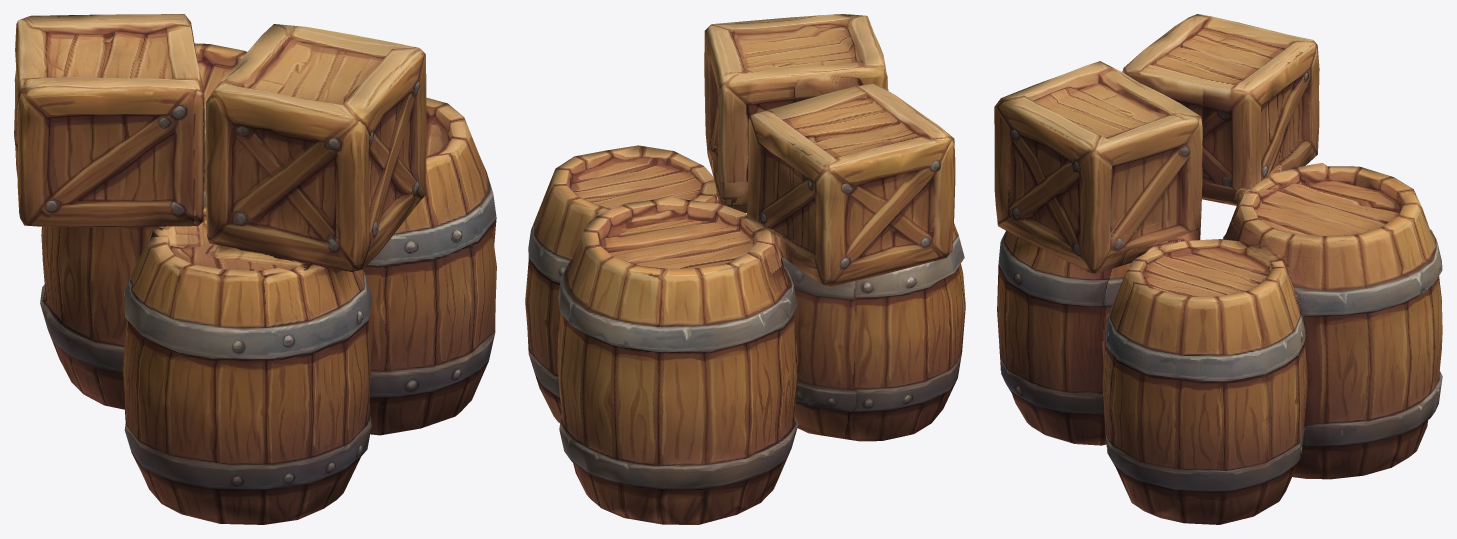
The model's file is SM_Env_BarrelSet.fbx.
The picture shows the model from 3 angles, left to right: view 1: azimuth 30°, elevation 25°; view 2: azimuth 150°, elevation 25°; view 3: azimuth 270°, elevation 25°; orthographic projection. The views are drawn at different scales.
Visible parts, largest first — view 1: SM_Env_BarrelSet; view 2: SM_Env_BarrelSet; view 3: SM_Env_BarrelSet.
Boxes of the visible parts, x1,y1,x2,y2 form: SM_Env_BarrelSet: (14, 14, 496, 524); SM_Env_BarrelSet: (525, 14, 965, 524); SM_Env_BarrelSet: (994, 14, 1442, 524).
Size of the model in its own units: 1.31 by 1.1 by 1.31.
